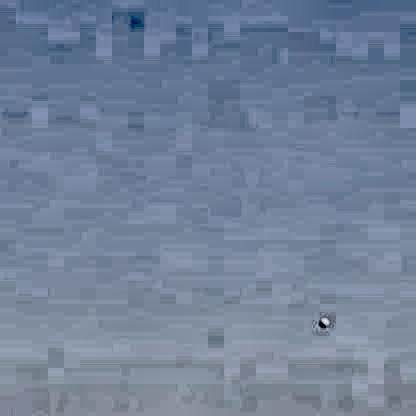golfball: (315, 314, 327, 325)
